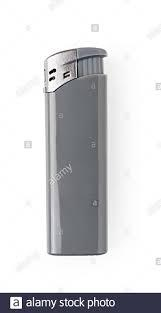lighter: (45, 46, 109, 256)
